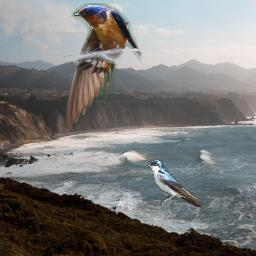Swallow: (63, 3, 142, 129), (147, 160, 204, 207)
